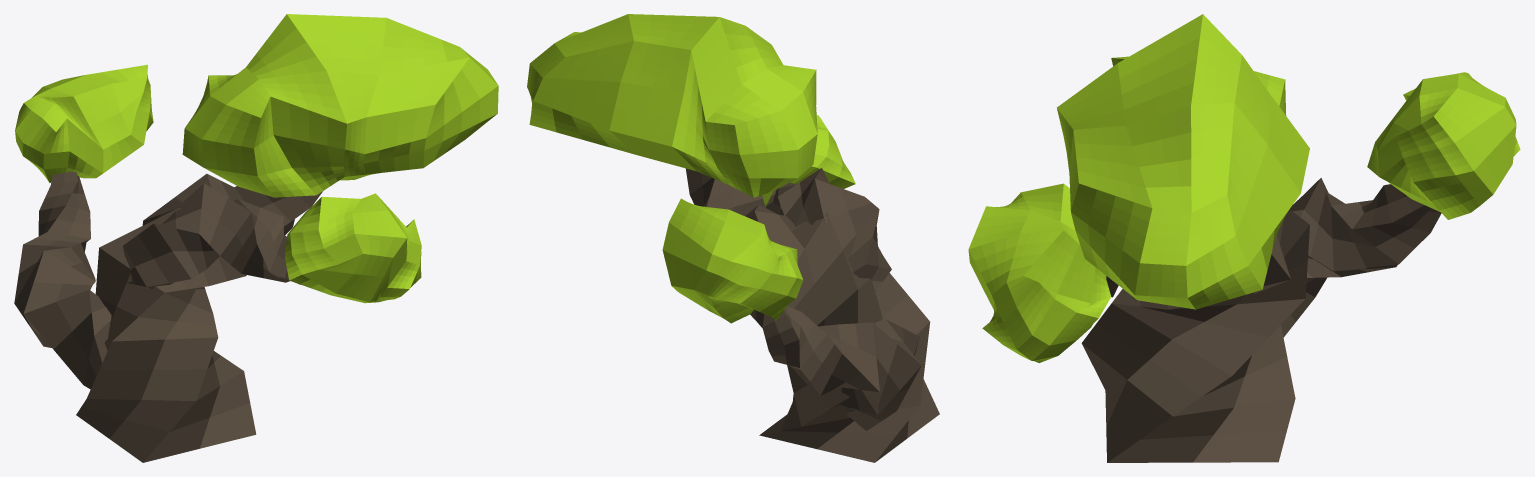
The model's file is Bush.002.fbx.
The picture shows the model from 3 angles, left to right: view 1: azimuth 30°, elevation 25°; view 2: azimuth 150°, elevation 25°; view 3: azimuth 270°, elevation 25°; orthographic projection. The views are drawn at different scales.
Parts seen in each view (by area): view 1: Plane.004; view 2: Plane.004; view 3: Plane.004.
Part boxes in pixels (x1=…): Plane.004: x1=14, y1=14, x2=498, y2=462; Plane.004: x1=527, y1=14, x2=939, y2=462; Plane.004: x1=968, y1=14, x2=1520, y2=462.
Size of the model in its own units: 7.52 by 6.32 by 6.43.
